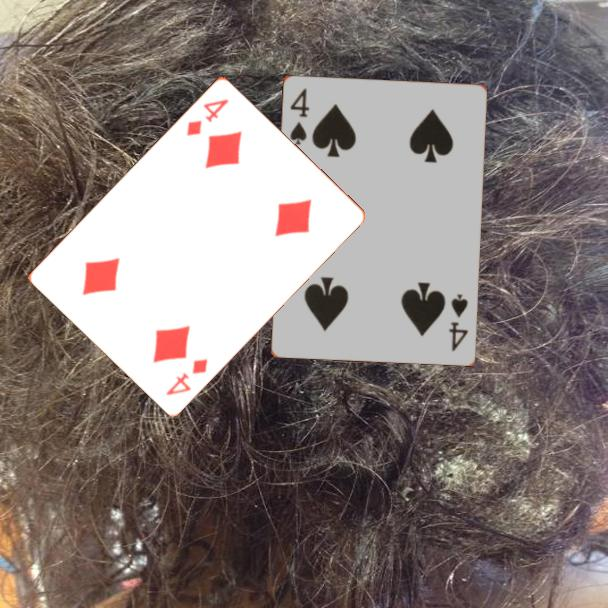d04: (183, 95, 232, 139), (162, 354, 211, 398)
s04: (286, 85, 312, 147), (445, 290, 470, 354)
